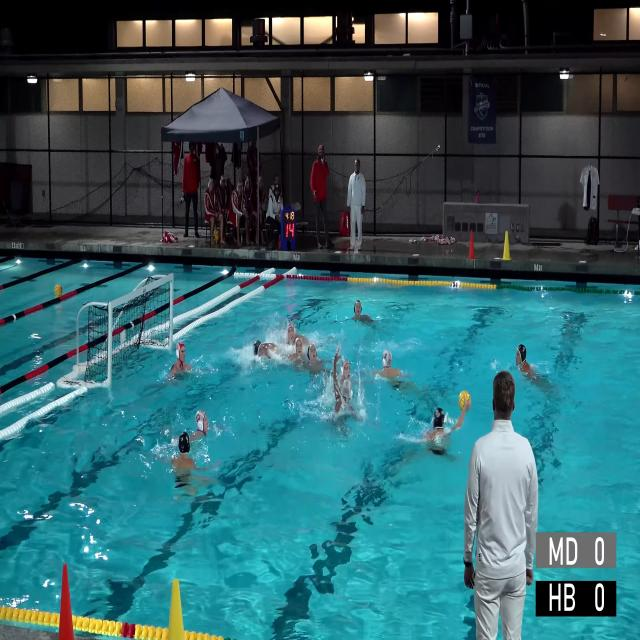ball: (458, 390, 472, 411), (54, 284, 62, 296), (215, 229, 220, 242)
